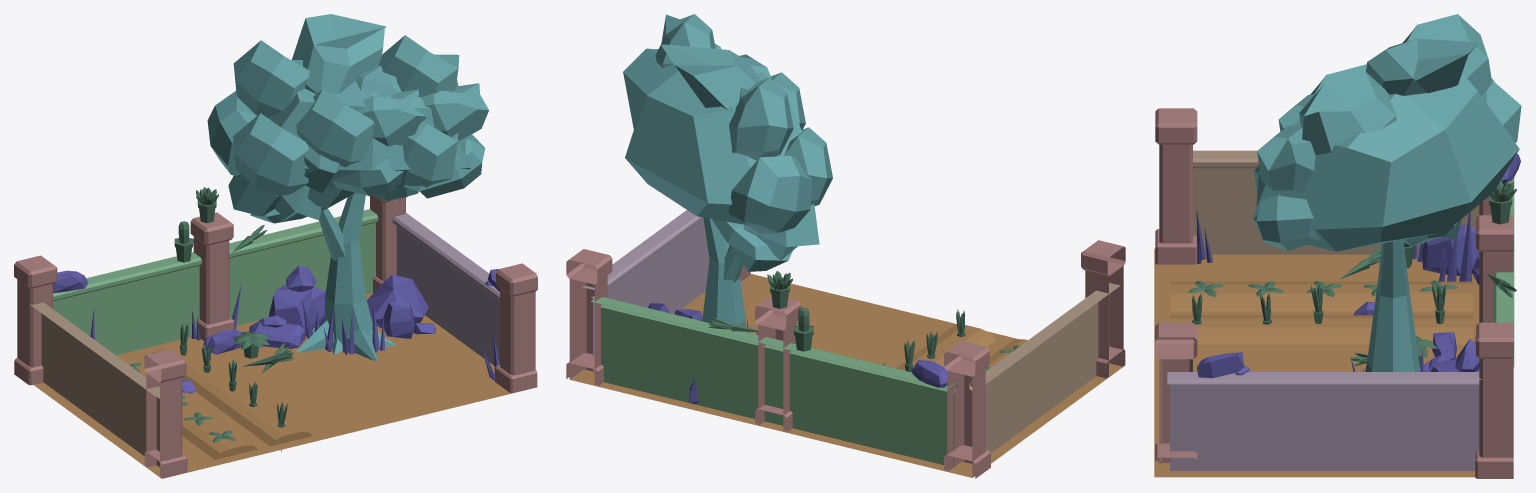
Rendered from Window_finsihed.fbx.
The picture shows the model from 3 angles, left to right: view 1: azimuth 30°, elevation 25°; view 2: azimuth 150°, elevation 25°; view 3: azimuth 270°, elevation 25°; orthographic projection. The views are drawn at different scales.
Visible parts, largest first — view 1: polySurface1, polySurface29, wall_long_modular, wall_short_modular, wall_short_modular1, pillar_modular2, pillar_modular3, pCylinder2, pillar_modular4, pillar_modular1, pCylinder1, pillar_modular (+10 smaller); view 2: polySurface1, wall_long_modular, polySurface29, wall_short_modular, wall_short_modular1, pillar_modular1, pillar_modular, pillar_modular3, pillar_modular4, pCylinder2, stone10, potted_plant (+1 smaller); view 3: polySurface1, wall_short_modular1, polySurface29, wall_short_modular, pCylinder1, pCylinder2, pillar_modular3, pillar_modular, pillar_modular2, pillar_modular4, stone1, wall_long_modular (+5 smaller).
Boxes of the visible parts, x1,y1,x2,y2 form: polySurface1: (207, 14, 488, 361); polySurface29: (33, 292, 536, 478); wall_long_modular: (53, 209, 378, 355); wall_short_modular: (30, 302, 159, 467); wall_short_modular1: (392, 213, 499, 365); pillar_modular2: (495, 263, 537, 392); pillar_modular3: (144, 349, 187, 478); pCylinder2: (152, 343, 313, 446); pillar_modular4: (190, 212, 234, 341); pillar_modular1: (14, 255, 57, 385); pCylinder1: (119, 356, 257, 459); pillar_modular: (370, 195, 407, 292); polySurface1: (623, 14, 832, 326); wall_long_modular: (591, 297, 956, 467); polySurface29: (570, 274, 1124, 477); wall_short_modular: (969, 283, 1120, 452); wall_short_modular1: (582, 210, 709, 373); pillar_modular1: (944, 341, 990, 478); pillar_modular: (566, 249, 612, 386); pillar_modular3: (1081, 240, 1125, 378); pillar_modular4: (755, 296, 801, 432); pCylinder2: (896, 324, 995, 370); stone10: (911, 360, 947, 387); potted_plant: (767, 270, 792, 308); polySurface1: (1253, 14, 1521, 371); wall_short_modular1: (1167, 372, 1482, 470); polySurface29: (1154, 248, 1479, 477); wall_short_modular: (1193, 150, 1479, 254); pCylinder1: (1170, 281, 1472, 311); pCylinder2: (1170, 315, 1472, 344); pillar_modular3: (1155, 108, 1197, 264); pillar_modular: (1475, 322, 1513, 478); pillar_modular2: (1155, 322, 1197, 463); pillar_modular4: (1475, 215, 1513, 344); stone1: (1421, 225, 1479, 275); wall_long_modular: (1493, 177, 1514, 366).
Size of the model in its own units: 258 by 172 by 208.
